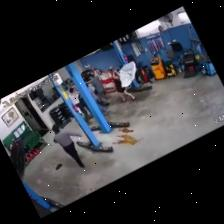person: (52, 125, 84, 167), (110, 67, 134, 102), (85, 84, 108, 116), (68, 88, 89, 123), (90, 74, 109, 106)
